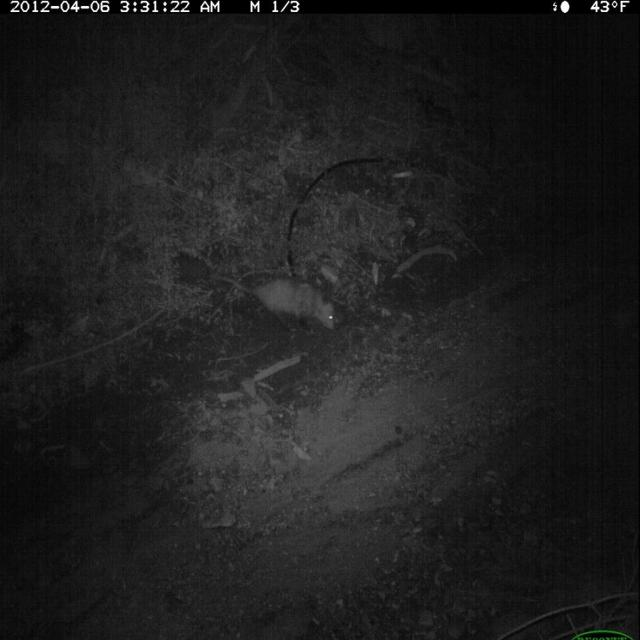opossum: (218, 258, 363, 339)
